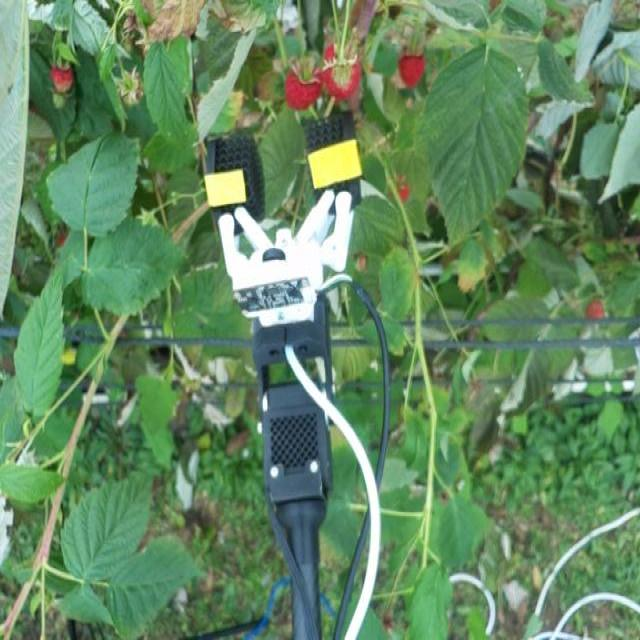Riped berries: (322, 42, 362, 103), (282, 58, 319, 112), (398, 40, 428, 92), (48, 60, 79, 96)
